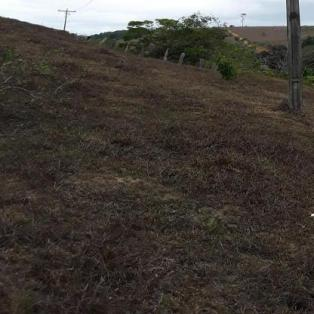Poste: (264, 0, 308, 112)
